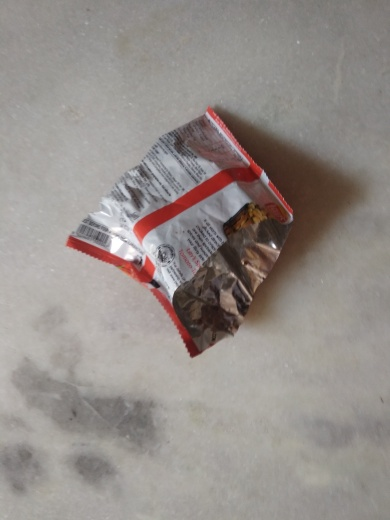lays: (55, 103, 303, 366)
